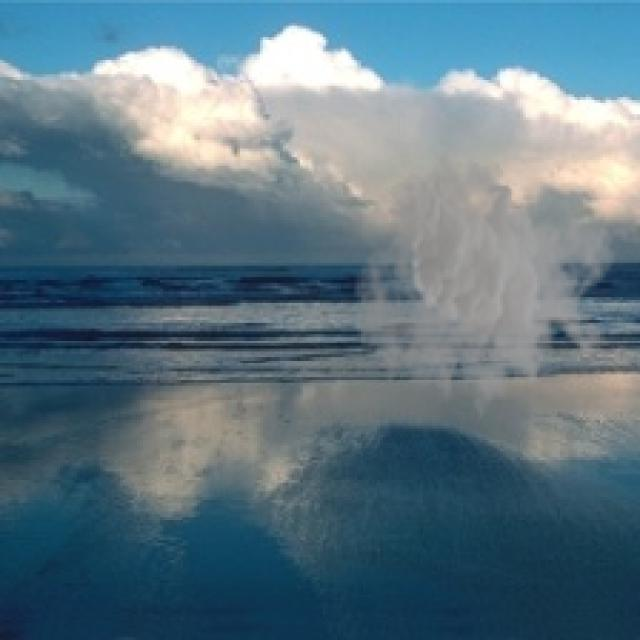smoke: (352, 148, 617, 428)
